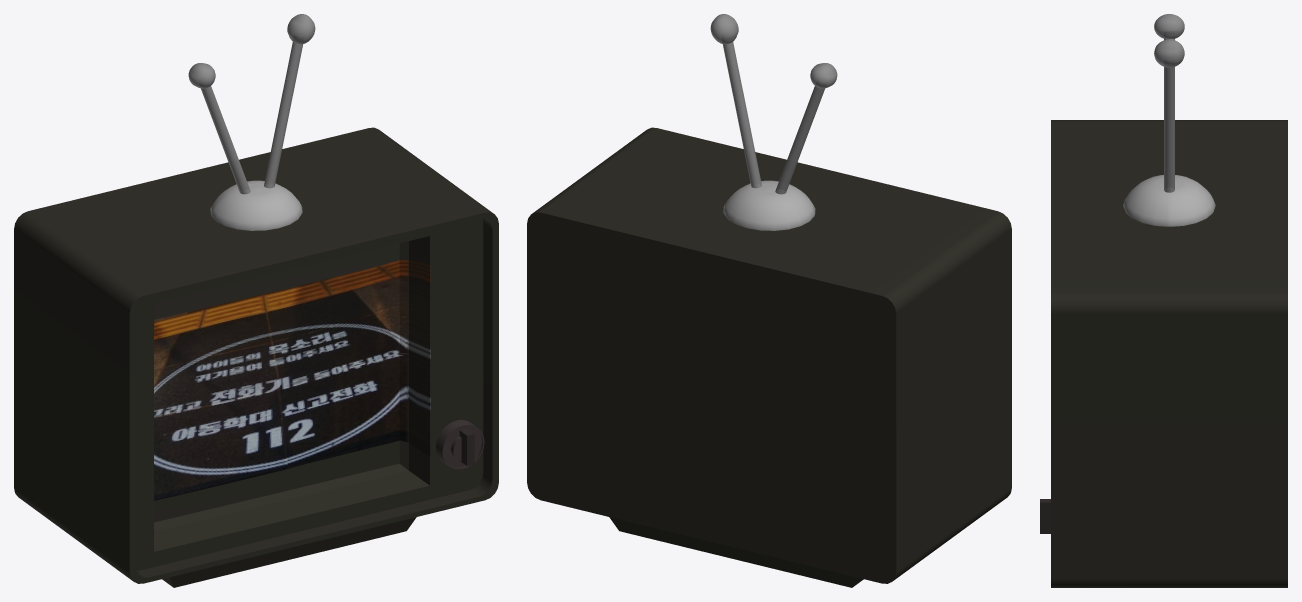
3 renders of one model, left to right at view 1: azimuth 30°, elevation 25°; view 2: azimuth 150°, elevation 25°; view 3: azimuth 270°, elevation 25°, orthographic. The views are drawn at different scales.
Parts seen in each view (by area): view 1: pCube3; view 2: pCube3; view 3: pCube3.
Part boxes in pixels (x1=…): pCube3: x1=14, y1=14, x2=498, y2=587; pCube3: x1=527, y1=14, x2=1011, y2=587; pCube3: x1=1040, y1=14, x2=1287, y2=587.
Bounding box in the file's own units: 5.67 × 7.26 × 3.22.
Materials: 5 (1 with a texture image).
